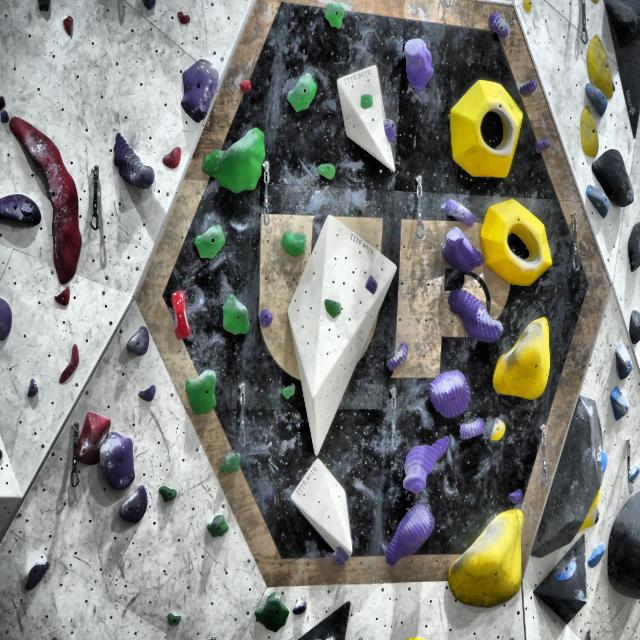Hold: (5, 112, 92, 290), (450, 510, 528, 608), (450, 71, 518, 178), (480, 196, 554, 286), (491, 314, 558, 402), (203, 124, 266, 200), (580, 137, 639, 212), (447, 288, 506, 344), (104, 132, 159, 192), (383, 506, 433, 572), (395, 435, 449, 493), (173, 55, 215, 127), (424, 368, 474, 416), (97, 429, 137, 489), (581, 30, 618, 94), (74, 406, 109, 472), (437, 226, 483, 274), (404, 36, 439, 94), (248, 587, 288, 635), (184, 366, 220, 416), (600, 3, 640, 48), (0, 191, 43, 230), (285, 73, 321, 118), (218, 286, 251, 334), (167, 288, 196, 340), (193, 222, 226, 265), (574, 101, 599, 157), (582, 80, 617, 118), (121, 483, 150, 528), (438, 192, 475, 227), (583, 174, 610, 218), (22, 556, 52, 592), (58, 341, 82, 384), (383, 343, 410, 380), (125, 324, 152, 358), (612, 338, 634, 379), (317, 290, 347, 320), (279, 228, 311, 256), (606, 383, 630, 420), (159, 140, 184, 174), (588, 540, 613, 574), (207, 511, 231, 544), (322, 0, 350, 27), (586, 490, 604, 532), (485, 10, 509, 40), (0, 299, 15, 346), (156, 477, 178, 506), (460, 420, 486, 444), (624, 301, 640, 340), (628, 222, 640, 273), (53, 284, 74, 312), (556, 557, 578, 583), (362, 272, 382, 300), (325, 542, 347, 567), (291, 594, 312, 620), (59, 13, 79, 40), (314, 153, 334, 180), (136, 381, 158, 404), (506, 481, 526, 506), (164, 608, 186, 630), (520, 75, 540, 99), (595, 444, 610, 476), (258, 304, 277, 328), (25, 375, 40, 402), (172, 8, 192, 26), (238, 73, 254, 94), (0, 104, 14, 126), (522, 0, 541, 16)
